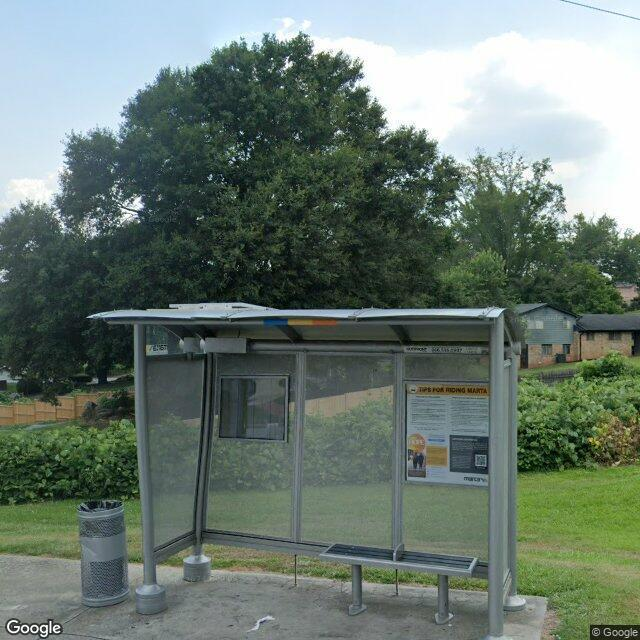seating: (318, 541, 479, 623)
shelter: (90, 306, 528, 637)
trash_can: (78, 499, 128, 606)
